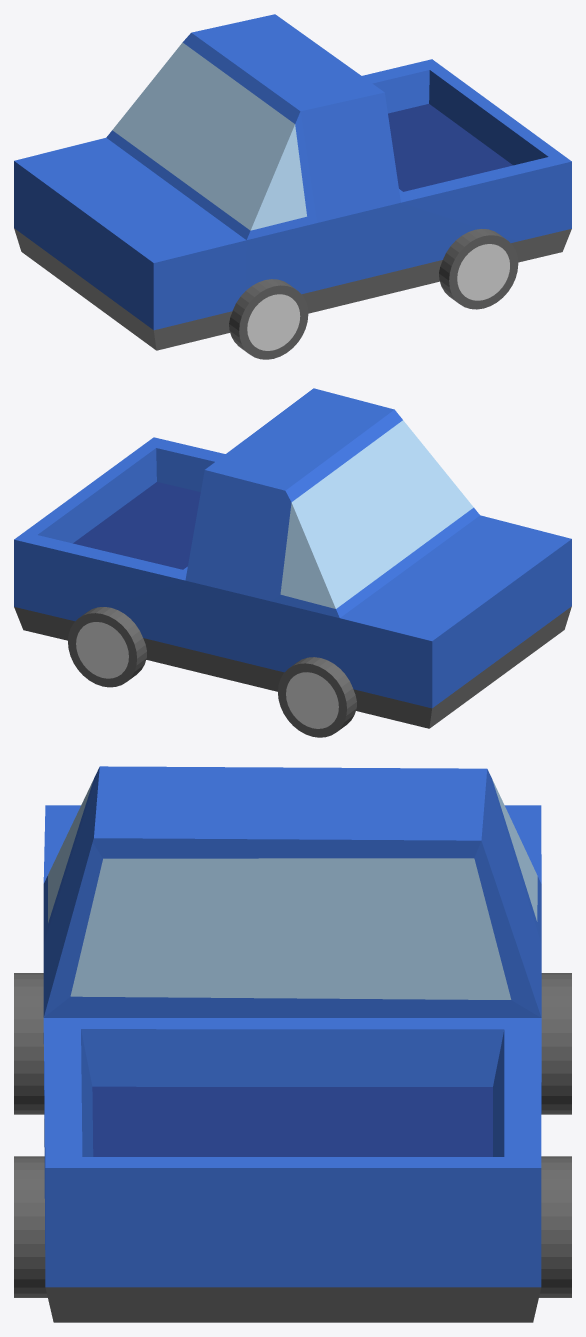
Rendered from truck_blue.fbx.
The picture shows the model from 3 angles, top to bottom: view 1: azimuth 30°, elevation 25°; view 2: azimuth 150°, elevation 25°; view 3: azimuth 270°, elevation 25°; orthographic projection. The views are drawn at different scales.
Parts seen in each view (by area): view 1: Cube, Cube.001; view 2: Cube, Cube.001; view 3: Cube, Cube.001.
Boxes of the visible parts, <box> form: Cube: <box>14,14,571,350</box>; Cube.001: <box>229,229,518,359</box>; Cube: <box>14,388,571,728</box>; Cube.001: <box>68,607,356,737</box>; Cube: <box>43,766,541,1322</box>; Cube.001: <box>14,973,571,1297</box>.
Bounding box in the file's own units: 623 × 311 × 406.
